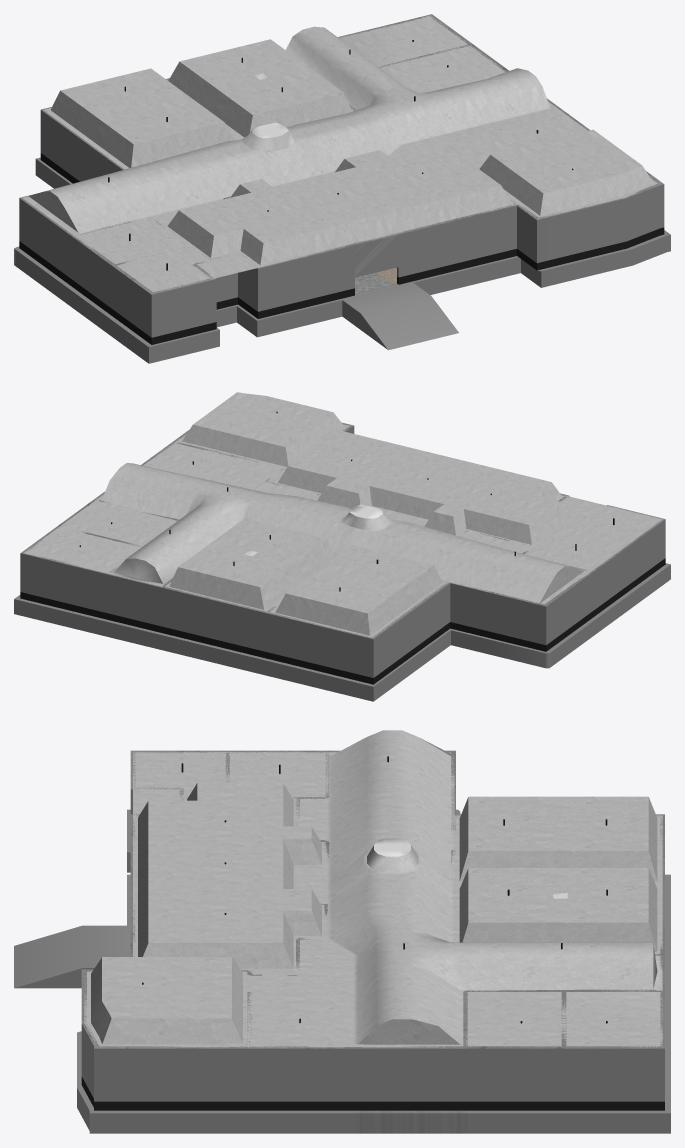
Rendered from Update10_10.fbx.
3 views of the same model, one above another, from view 1: azimuth 30°, elevation 25°; view 2: azimuth 150°, elevation 25°; view 3: azimuth 270°, elevation 25° (orthographic). The views are drawn at different scales.
Parts seen in each view (by area): view 1: Roof, MainFrame; view 2: Roof, MainFrame; view 3: Roof, MainFrame.
Part boxes in pixels (x1,y1,x2,y2): Roof: [22, 15, 657, 292]; MainFrame: [14, 14, 670, 363]; Roof: [24, 392, 662, 637]; MainFrame: [14, 422, 670, 701]; Roof: [84, 730, 662, 1047]; MainFrame: [14, 750, 670, 1133].
Bounding box in the file's own units: 8019 × 1491 × 7332.
